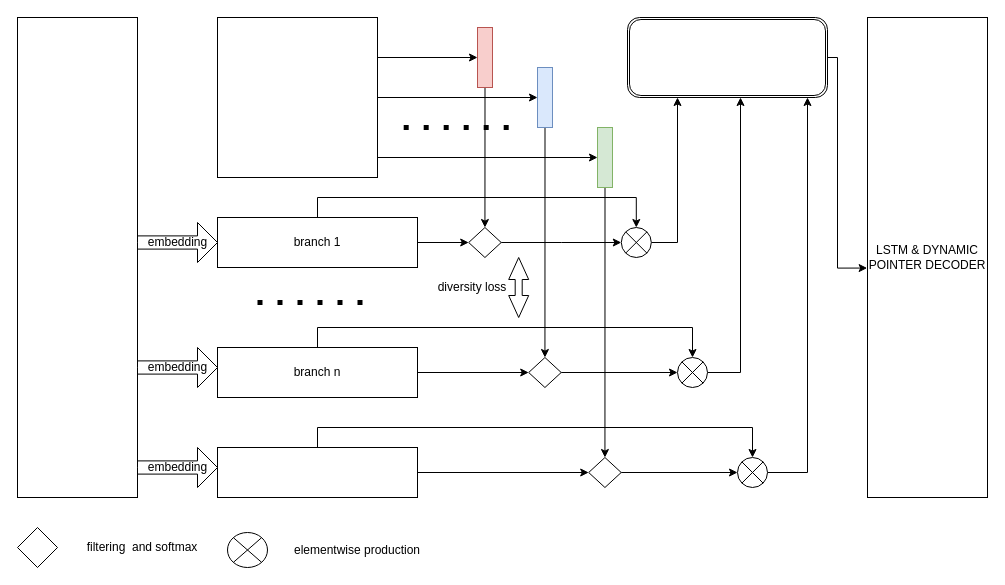
This 1005x585 diagram has some shape labels left out. Here are the shapes that lost their labels. From the top down, the centre of each, then its label:
At (727,57): "Branch fusion module".
At (297,97): "Query: 今天是上分的好日子呀 真不戳".
At (77,257): "Raw video feature and feature encoder".
